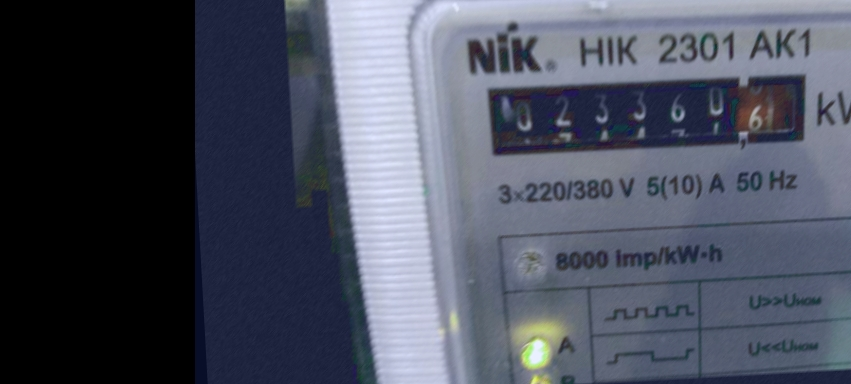0: (509, 95, 533, 131), (702, 80, 726, 116)
2: (549, 91, 572, 127)
3: (588, 89, 610, 125), (627, 86, 647, 121)
6: (664, 86, 686, 122), (743, 97, 763, 131)
screen: (471, 56, 827, 174)
